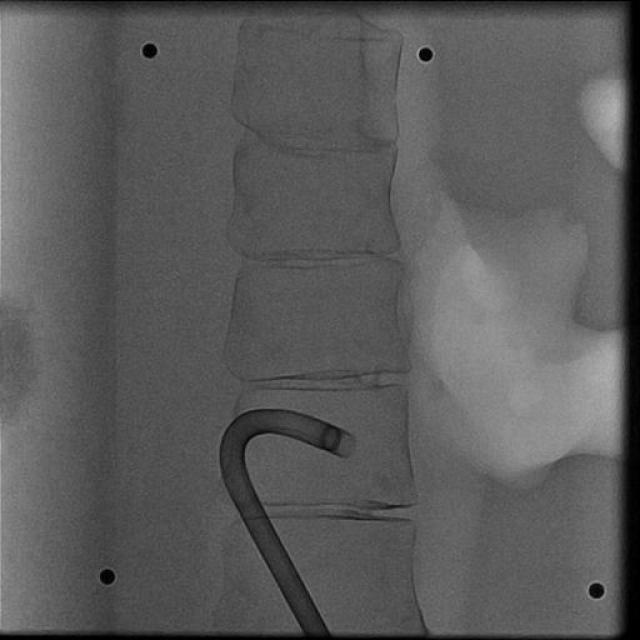bend: (218, 456, 246, 476)
entry: (304, 629, 330, 635)
marker: (319, 423, 340, 452)
tip: (337, 434, 357, 460)
